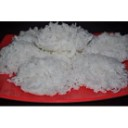idiyappam: (30, 22, 107, 64), (18, 56, 75, 96), (75, 53, 127, 92)
